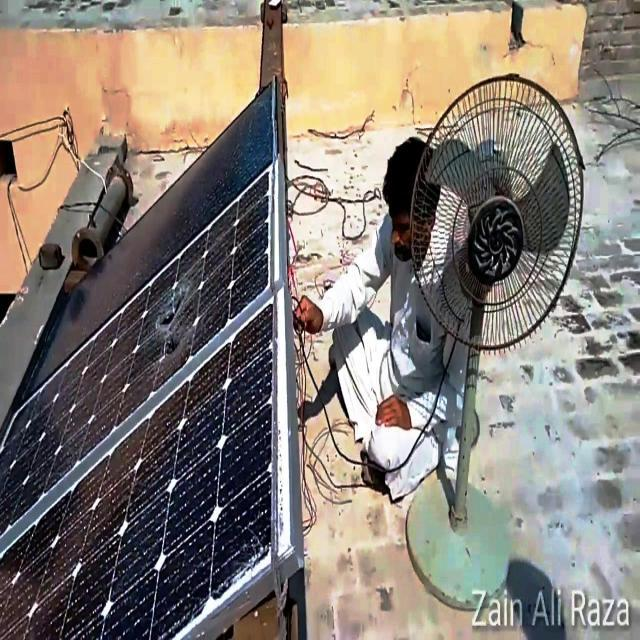faulty: (0, 162, 279, 512), (0, 328, 286, 634)
